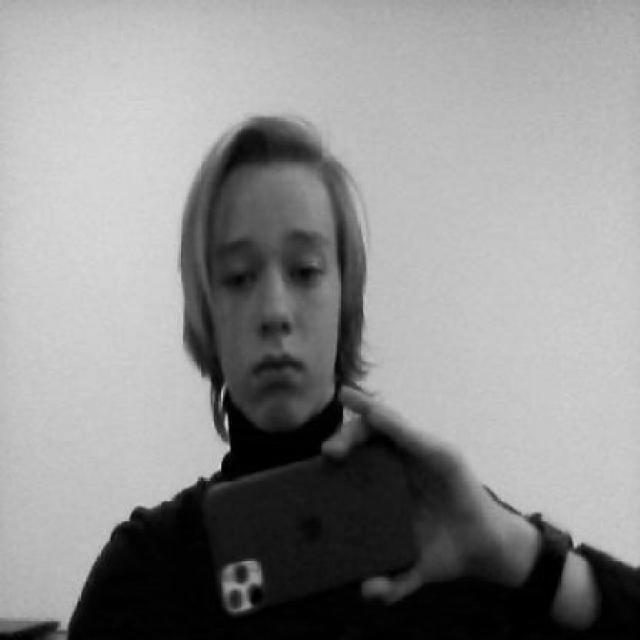fake: (181, 436, 442, 630)
real: (208, 166, 344, 429), (216, 235, 331, 296)
